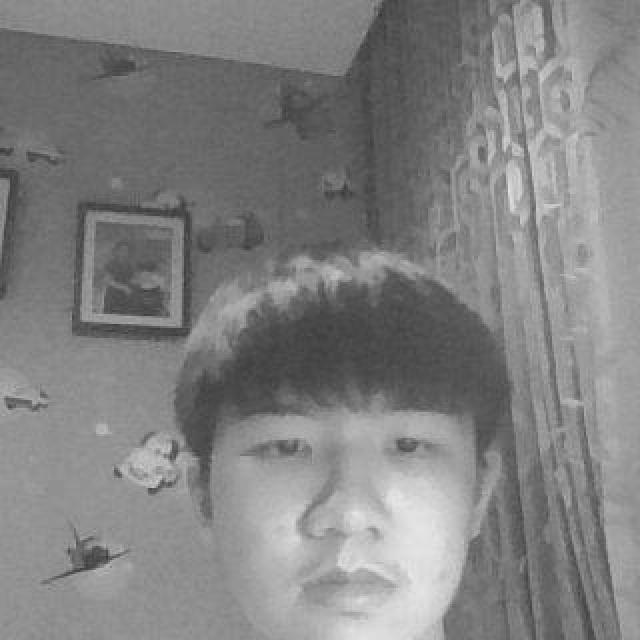Focused: (178, 250, 506, 640)
